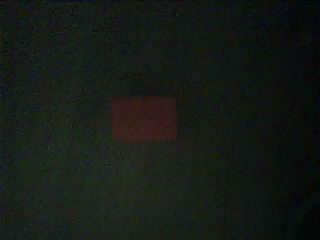lego: (109, 94, 179, 143)
